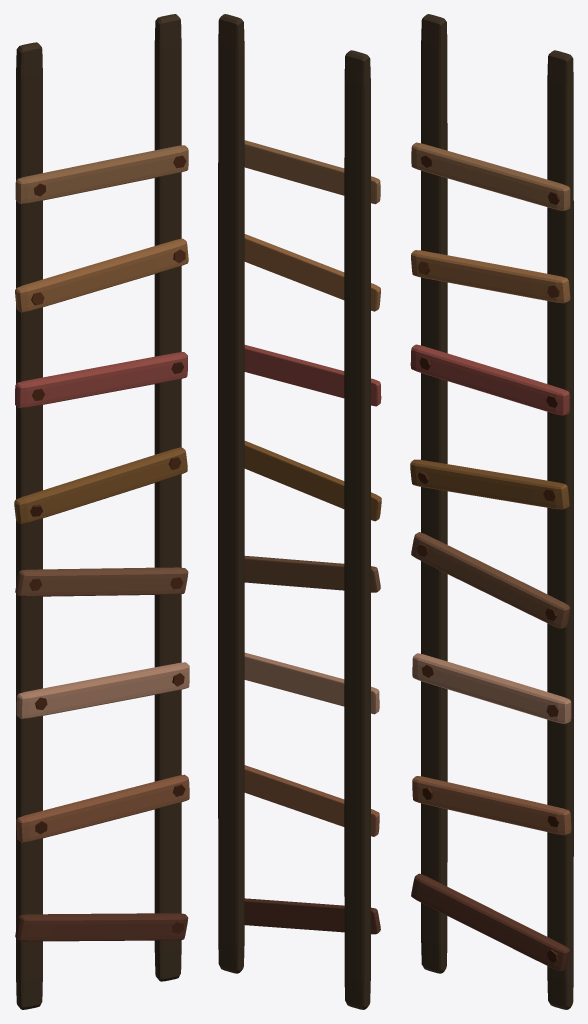
File: Ladder.fbx
3 renders of one model, left to right at view 1: azimuth 30°, elevation 25°; view 2: azimuth 150°, elevation 25°; view 3: azimuth 330°, elevation 25°, orthographic.
Visible parts, largest first — view 1: Ladder; view 2: Ladder; view 3: Ladder.
Boxes of the visible parts, bbox=[...] form: Ladder: bbox=[14, 14, 189, 1009]; Ladder: bbox=[218, 14, 381, 1009]; Ladder: bbox=[410, 14, 573, 1009].
Bounding box in the file's own units: 192 × 1060 × 39.72.
